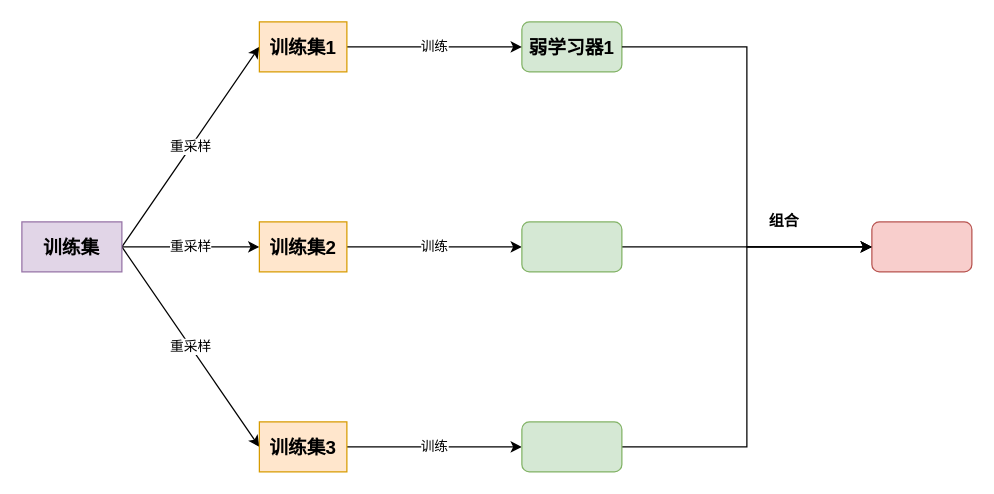
Some shapes in this 994 by 494 pixel diagram are drawn without their labels. The centre of each missing label's shape, as x and y in pixels:
弱学习器2: point (571, 246)
弱学习器3: point (571, 446)
强学习器: point (921, 246)
